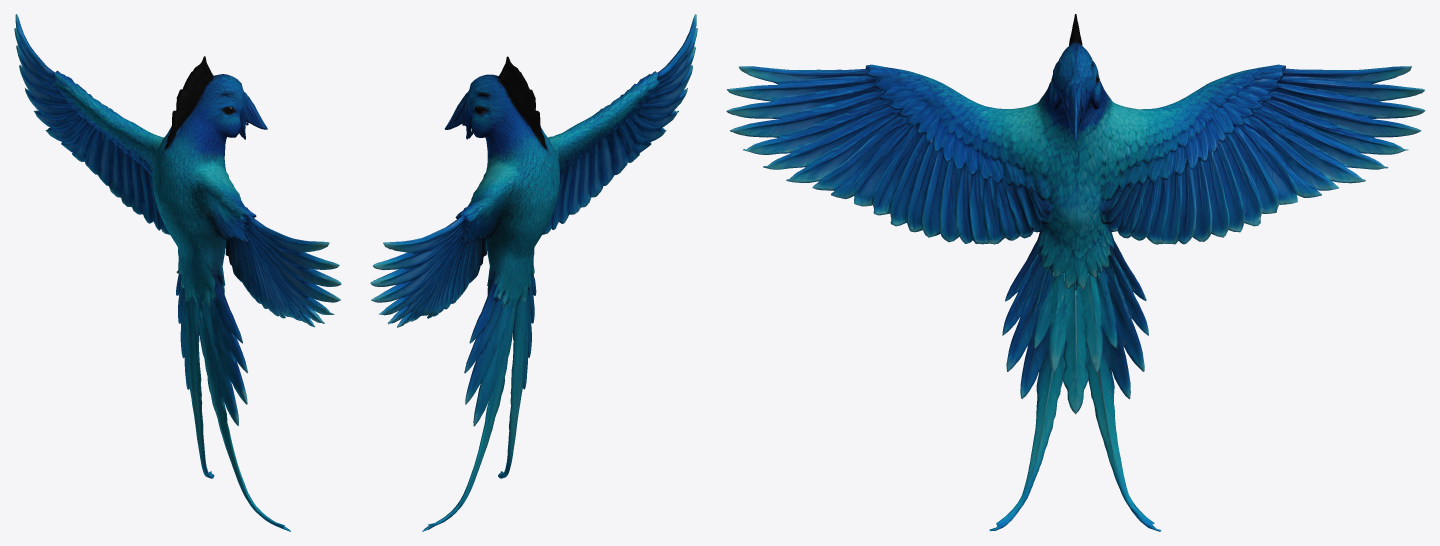
File: lagoon-jay.glb
3 views of the same model, side by side, from view 1: azimuth 30°, elevation 25°; view 2: azimuth 150°, elevation 25°; view 3: azimuth 270°, elevation 25° (orthographic). The views are drawn at different scales.
Parts seen in each view (by area): view 1: tripo_node_46ca4ef4-a6a0-454f-98c5-9fe0abd94106; view 2: tripo_node_46ca4ef4-a6a0-454f-98c5-9fe0abd94106; view 3: tripo_node_46ca4ef4-a6a0-454f-98c5-9fe0abd94106.
Boxes of the visible parts, <box> form: tripo_node_46ca4ef4-a6a0-454f-98c5-9fe0abd94106: <box>14,14,341,531</box>; tripo_node_46ca4ef4-a6a0-454f-98c5-9fe0abd94106: <box>370,14,697,531</box>; tripo_node_46ca4ef4-a6a0-454f-98c5-9fe0abd94106: <box>726,14,1425,531</box>.
Size of the model in its own units: 0.2156 by 0.7788 by 1.
Materials: 1 (1 with a texture image).
